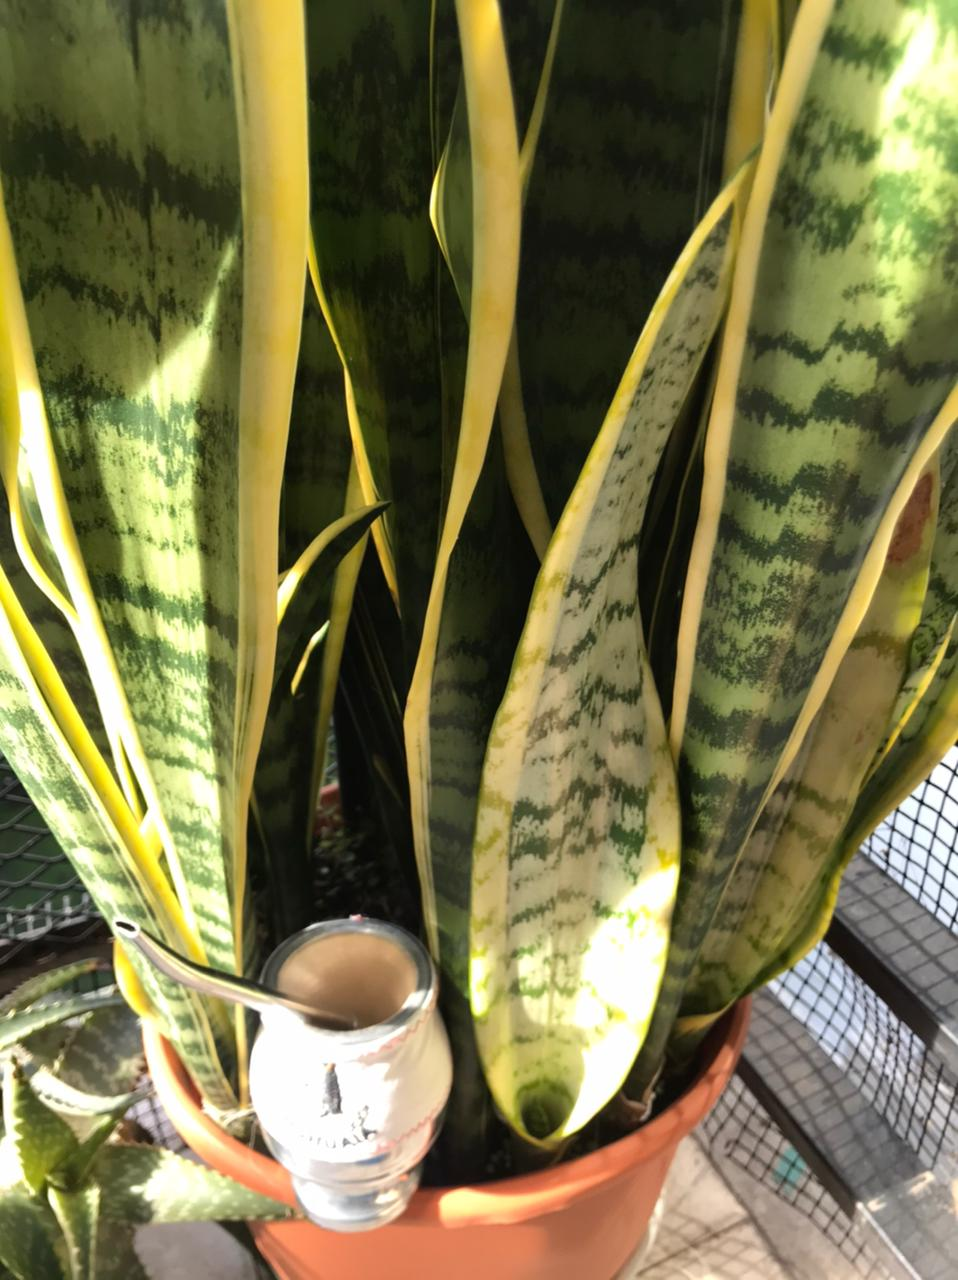mate: (112, 879, 465, 1244)
